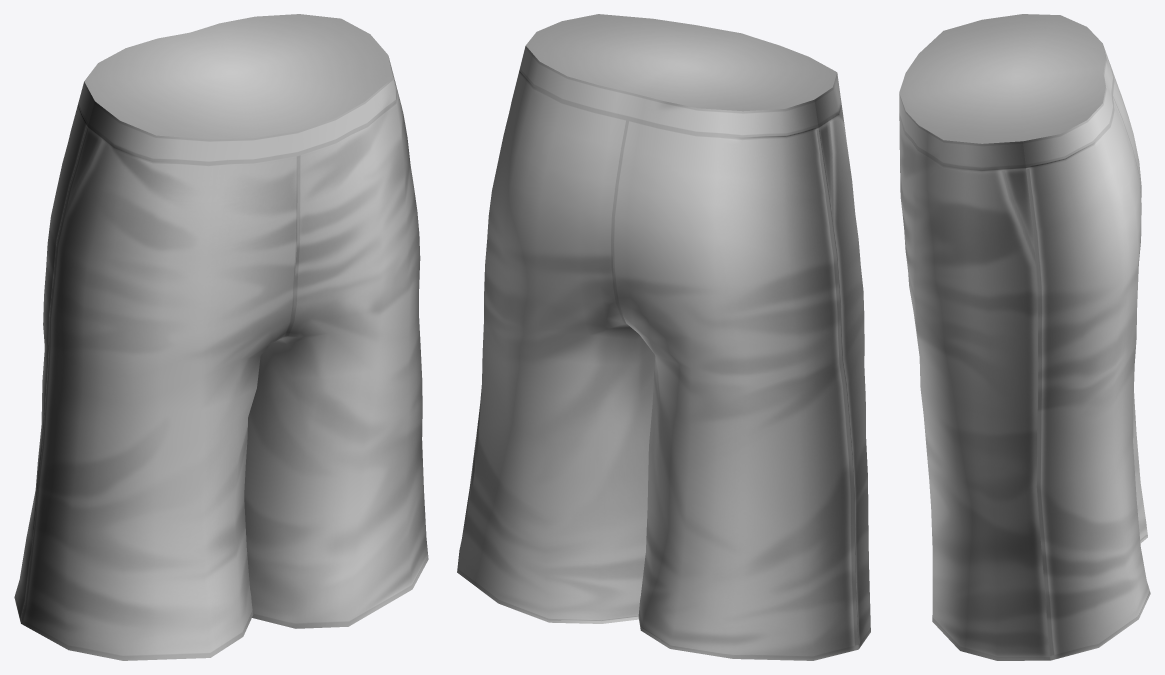
The model's file is M_Lower_Ugc_005_02_02.FBX.
The picture shows the model from 3 angles, left to right: view 1: azimuth 30°, elevation 25°; view 2: azimuth 150°, elevation 25°; view 3: azimuth 270°, elevation 25°; orthographic projection. The views are drawn at different scales.
Visible parts, largest first — view 1: M_Lower_Ugc_005_02_02; view 2: M_Lower_Ugc_005_02_02; view 3: M_Lower_Ugc_005_02_02.
Boxes of the visible parts, x1,y1,x2,y2 form: M_Lower_Ugc_005_02_02: (14, 14, 428, 660); M_Lower_Ugc_005_02_02: (457, 14, 870, 660); M_Lower_Ugc_005_02_02: (899, 14, 1150, 660).
Bounding box in the file's own units: 37.13 × 48.89 × 21.56.
Materials: 1 (1 with a texture image).
